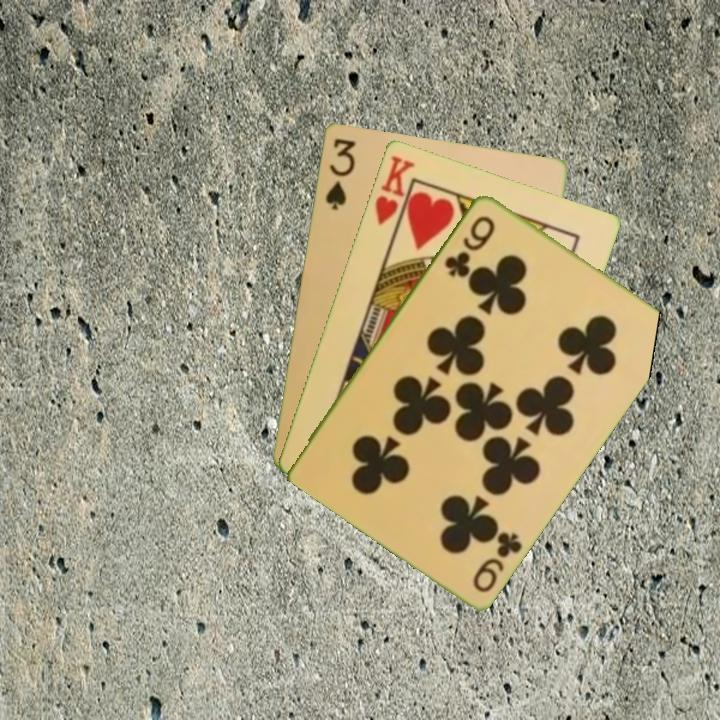3s: (321, 134, 358, 212)
9c: (441, 211, 498, 280), (468, 527, 525, 595)
Kh: (371, 151, 418, 237)
